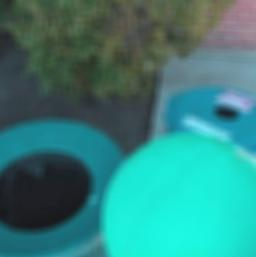algae: (99, 131, 256, 257)
